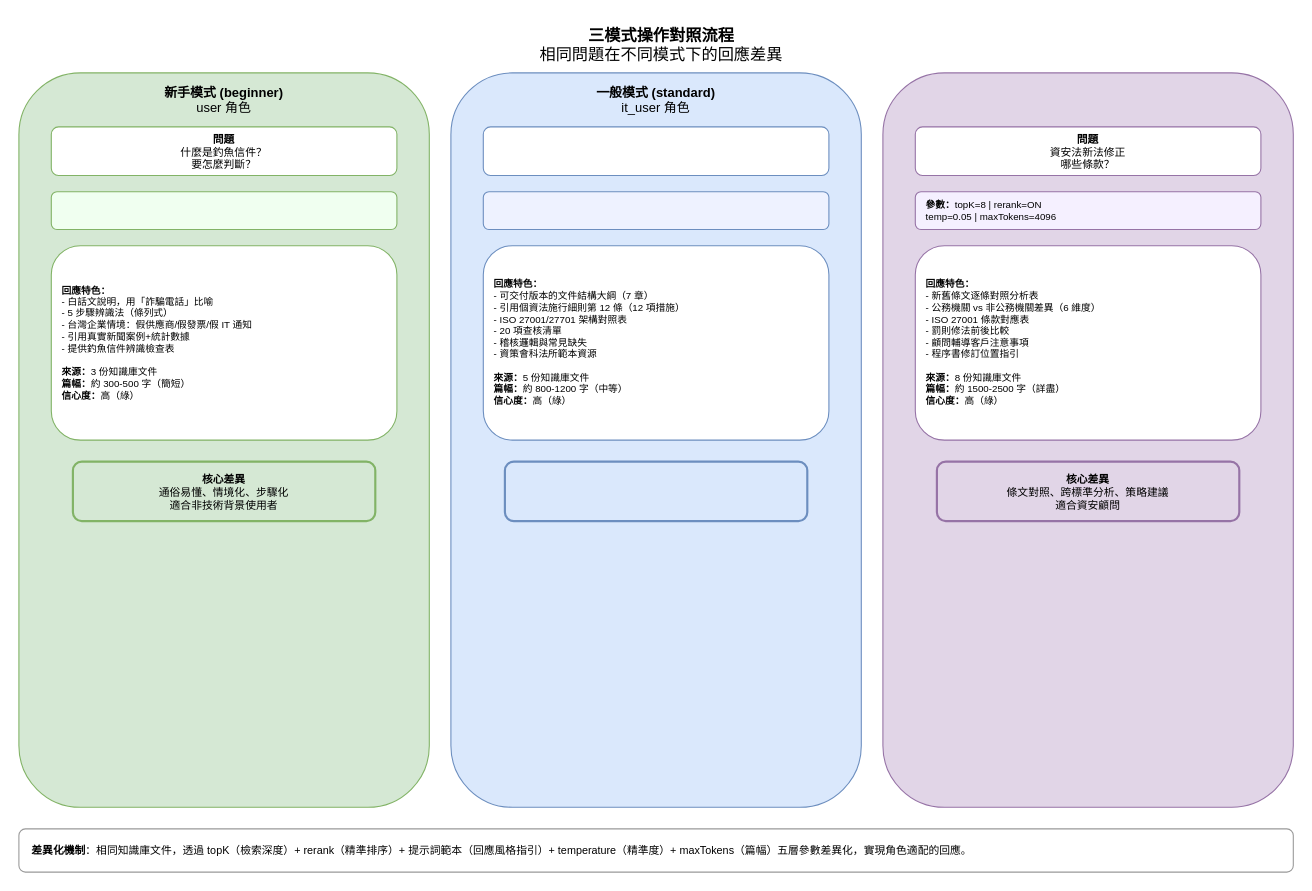
This 1312x891 diagram has some shape labels left out. The shapes that lost their labels are listed below. From the top down, each one's box as (x1, y1, x2, y2) in pixels, then its label:
(482, 126, 829, 176): 問題 被主管機關發文要出具 個資安全維護計畫，怎麼寫？
(50, 191, 397, 230): 參數： topK=3 | rerank=OFF temp=0.3 | maxTokens=1024
(482, 191, 829, 230): 參數： topK=5 | rerank=OFF temp=0.1 | maxTokens=2048
(882, 72, 1293, 807): 顧問模式 (expert) consultant 角色
(503, 460, 808, 522): 核心差異 法規引用、可交付範本、查核清單 適合 IT/MIS 工程師
